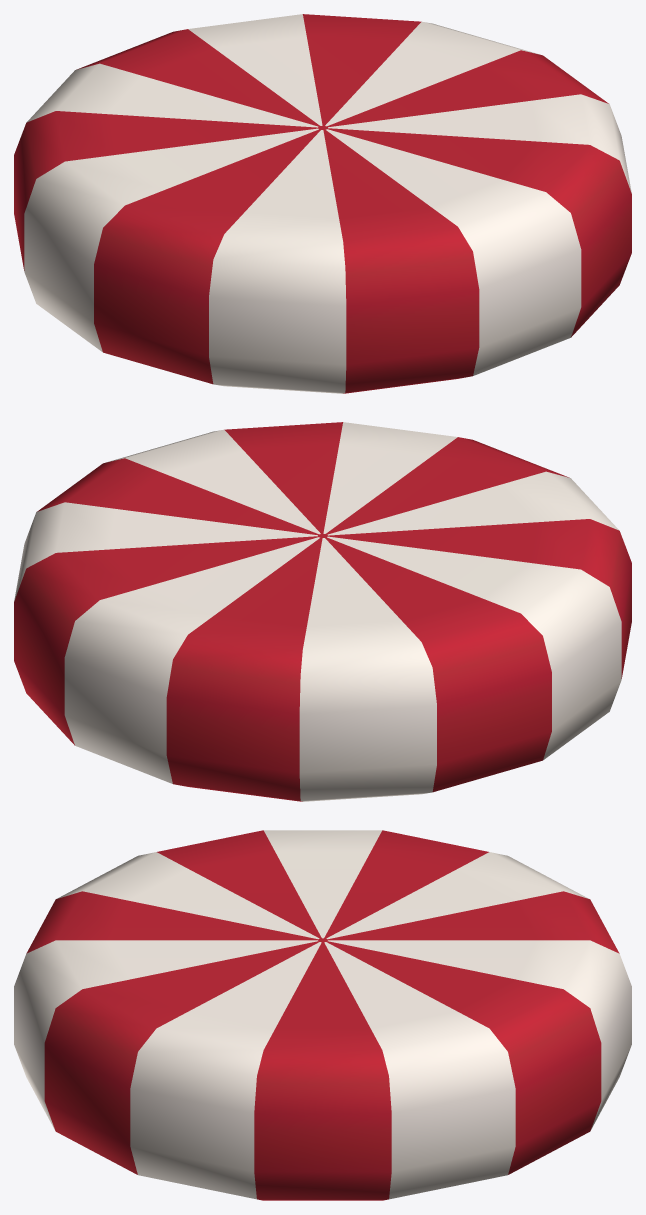
File: candy_hard_7.fbx
3 renders of one model, top to bottom at view 1: azimuth 30°, elevation 25°; view 2: azimuth 150°, elevation 25°; view 3: azimuth 270°, elevation 25°, orthographic.
Parts seen in each view (by area): view 1: c_h_7; view 2: c_h_7; view 3: c_h_7.
Part boxes in pixels (x1,y1,x2,y2): c_h_7: (14,14,631,393); c_h_7: (14,422,631,801); c_h_7: (14,830,631,1200).
Size of the model in its own units: 156 by 42.99 by 160.
